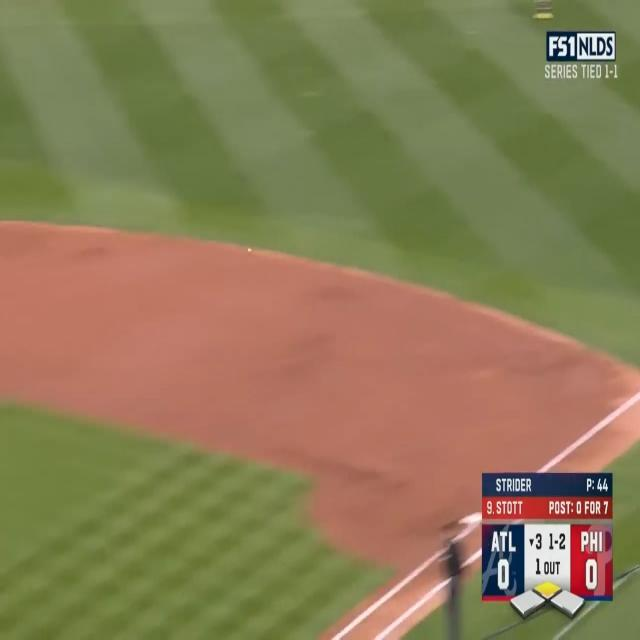baseball: (248, 247, 252, 253)
